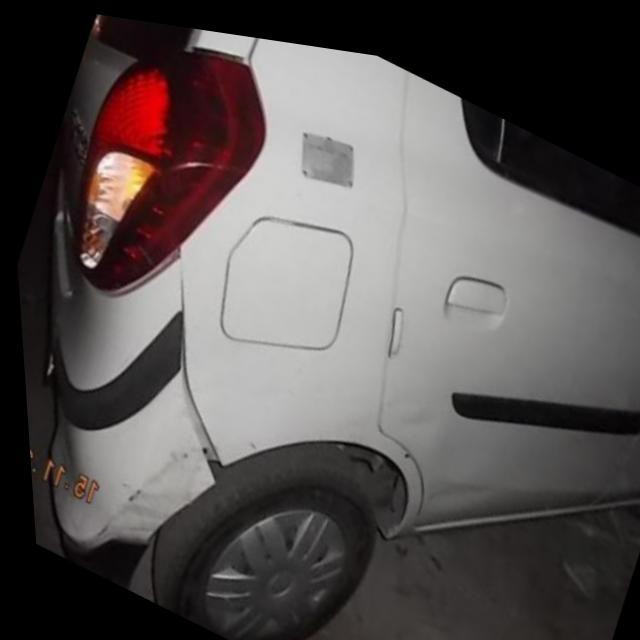dislocated part: (175, 338, 220, 487)
rub: (76, 439, 181, 546)
scratch: (419, 461, 495, 501), (379, 380, 432, 431)
